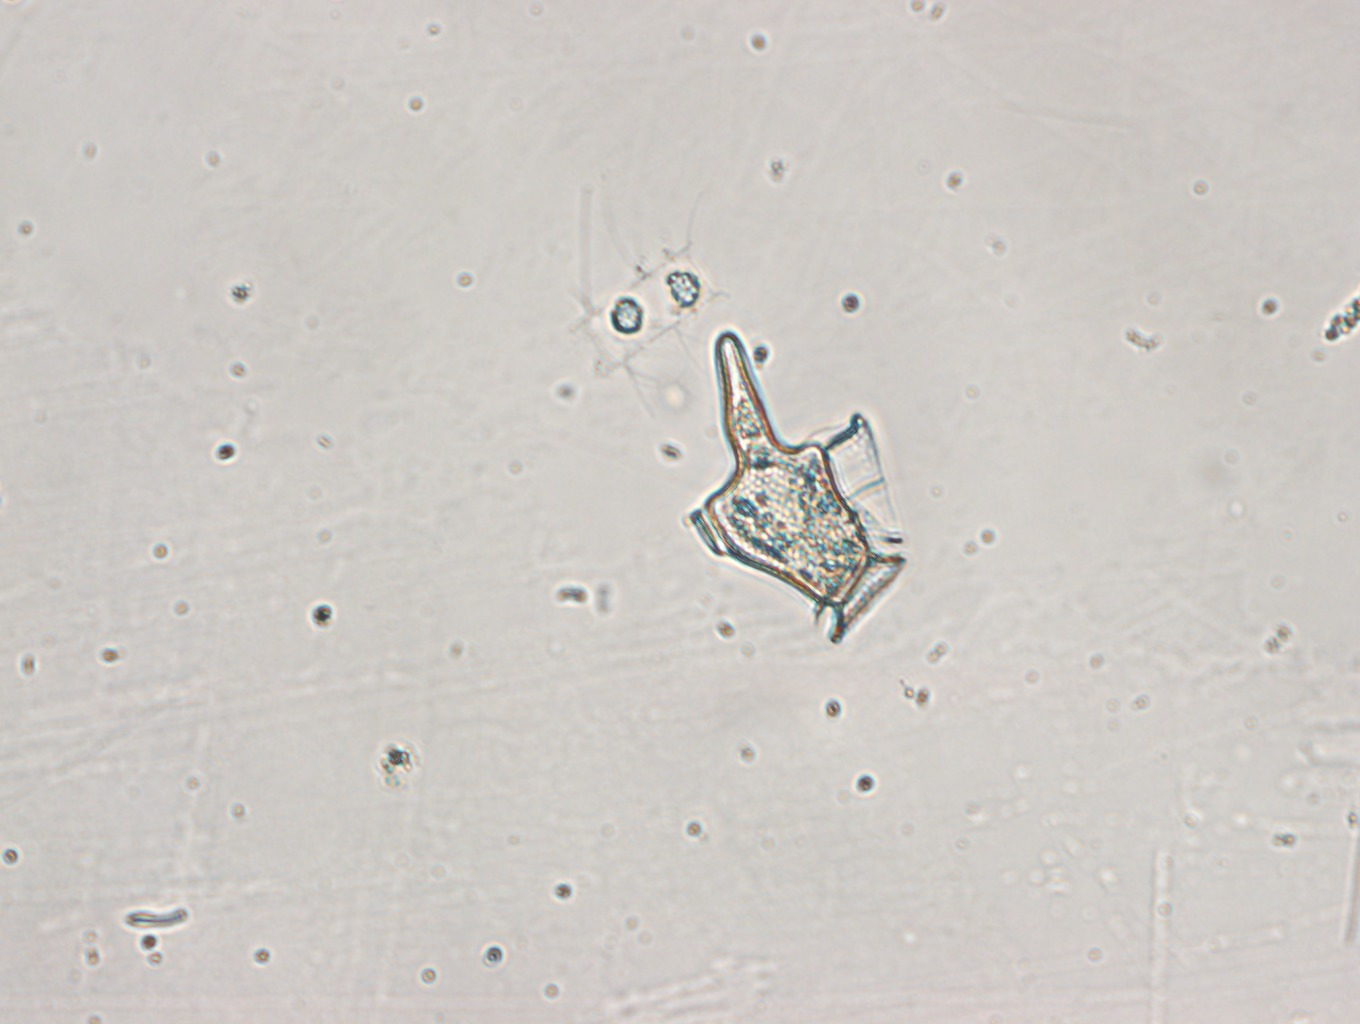chaetoceros: (561, 182, 728, 422)
dinophysis caudata: (685, 328, 906, 648)
